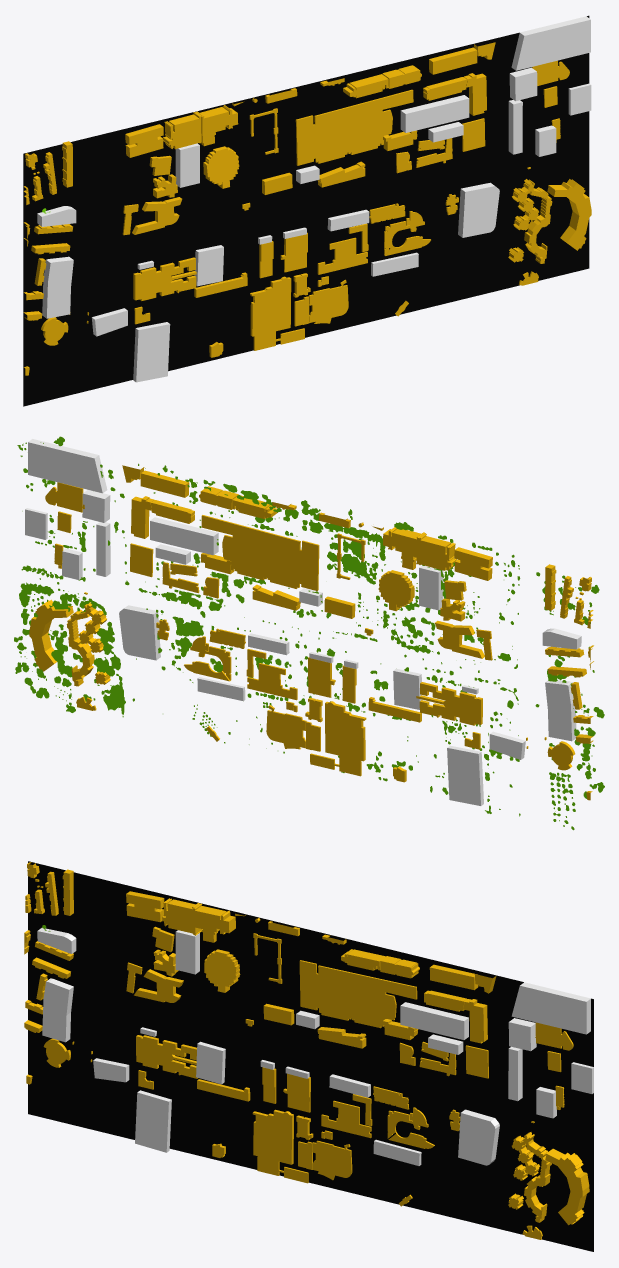
The model's file is new_low_buildings_04.glb.
3 renders of one model, top to bottom at view 1: azimuth 30°, elevation 25°; view 2: azimuth 150°, elevation 25°; view 3: azimuth 330°, elevation 25°, orthographic.
Visible parts, largest first — view 1: Layer 04, existing_building - Copy, new buildings; view 2: existing_building - Copy, new buildings, treesurface; view 3: Layer 04, existing_building - Copy, new buildings.
Part boxes in pixels (left/top/right/bottom): Layer 04: left=23, top=15, right=589, bottom=406; existing_building - Copy: left=23, top=42, right=591, bottom=375; new buildings: left=37, top=16, right=591, bottom=382; existing_building - Copy: left=29, top=465, right=593, bottom=800; new buildings: left=25, top=439, right=581, bottom=805; treesurface: left=14, top=436, right=604, bottom=830; Layer 04: left=28, top=861, right=593, bottom=1251; existing_building - Copy: left=24, top=862, right=589, bottom=1239; new buildings: left=37, top=928, right=593, bottom=1165.
Size of the model in its own units: 1035 by 458 by 20.85.
